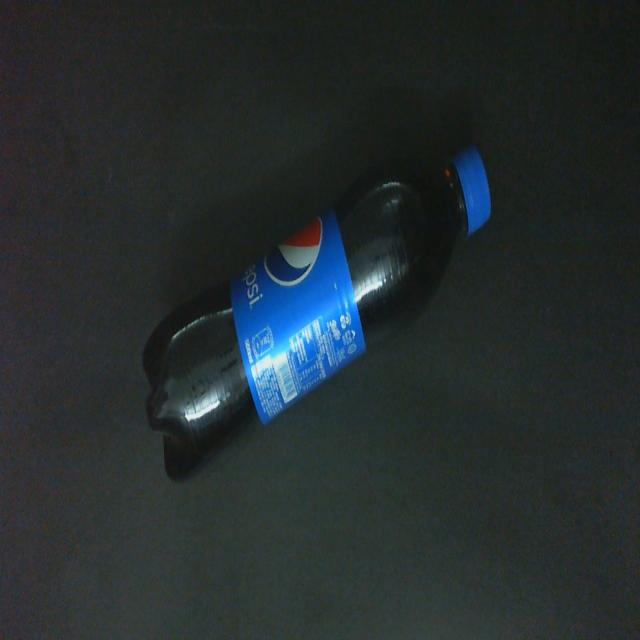non-defect: (142, 139, 493, 486)
